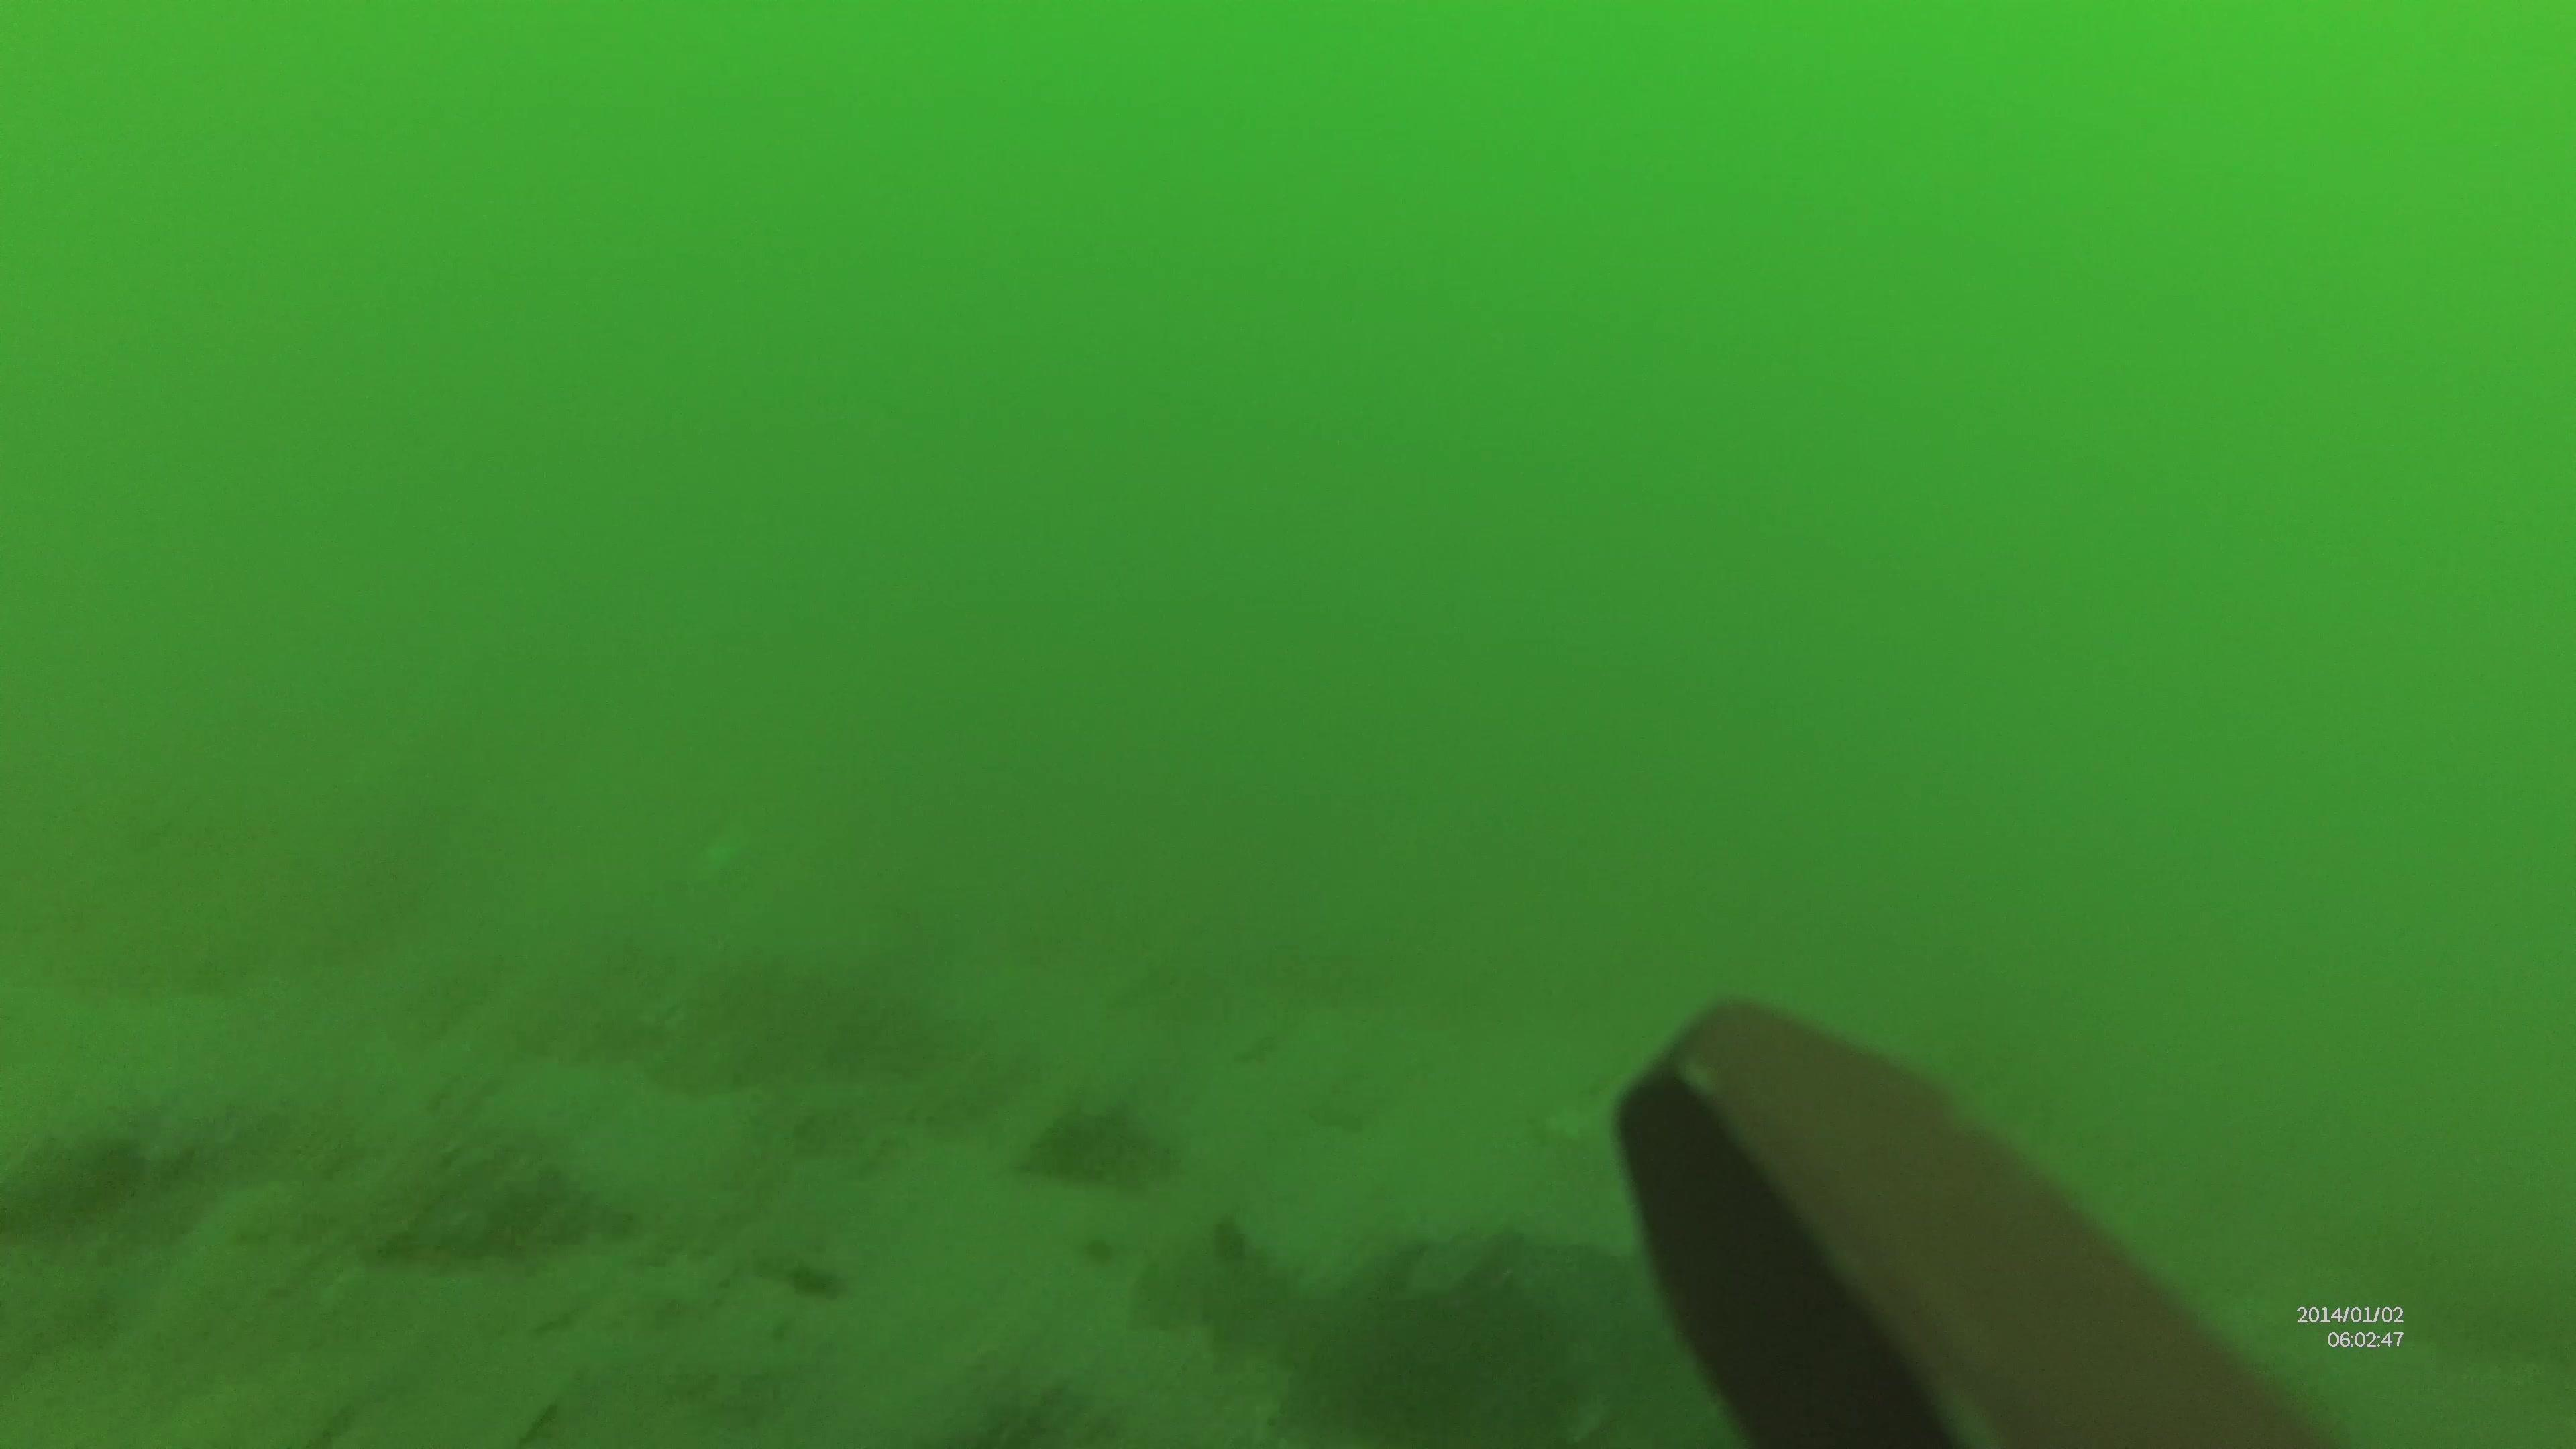holothurian: (341, 1185, 621, 1254)
